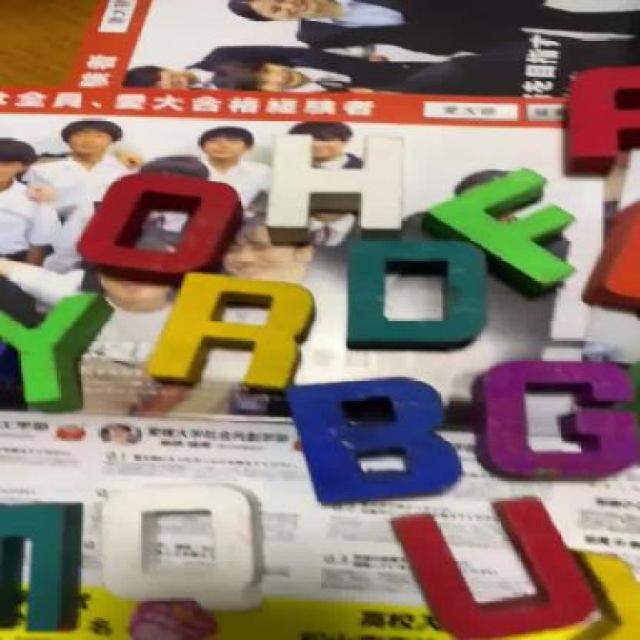B: (290, 373, 447, 507)
D: (344, 238, 493, 354)
F: (442, 175, 586, 290)
G: (481, 360, 639, 478)
H: (252, 131, 410, 240)
O: (76, 175, 239, 278)
Q: (95, 484, 258, 611)
R: (161, 276, 317, 392)
U: (398, 497, 588, 638)
Y: (0, 285, 109, 401)
